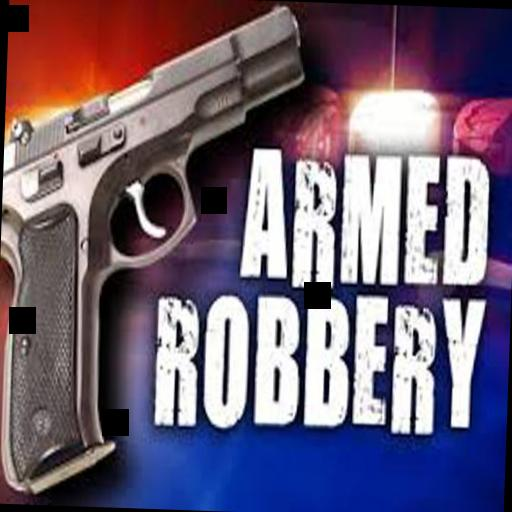Handgun: (0, 0, 302, 492)
